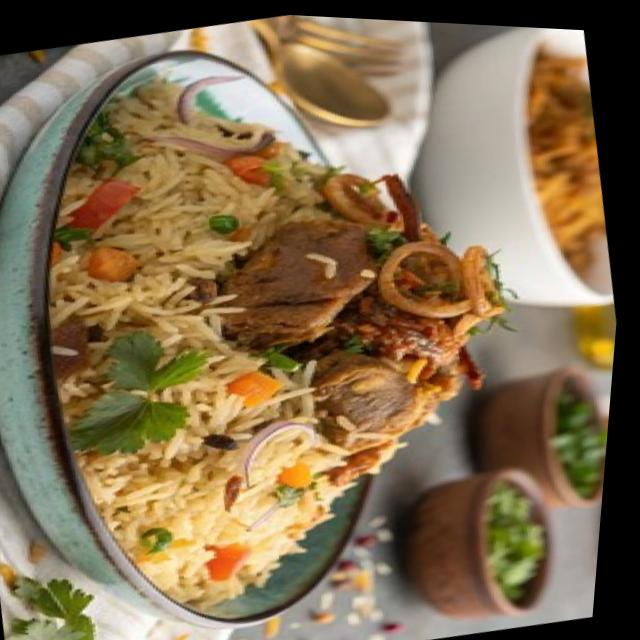BIRIYANI: (45, 75, 522, 606)
